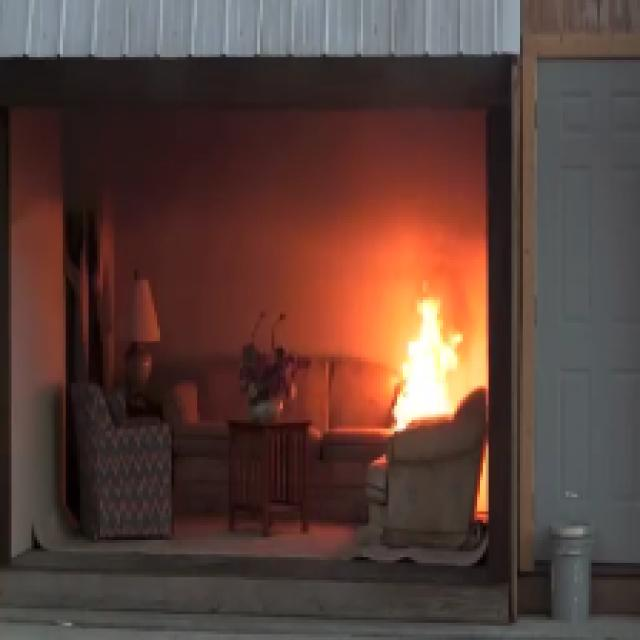fire: (382, 285, 459, 432)
